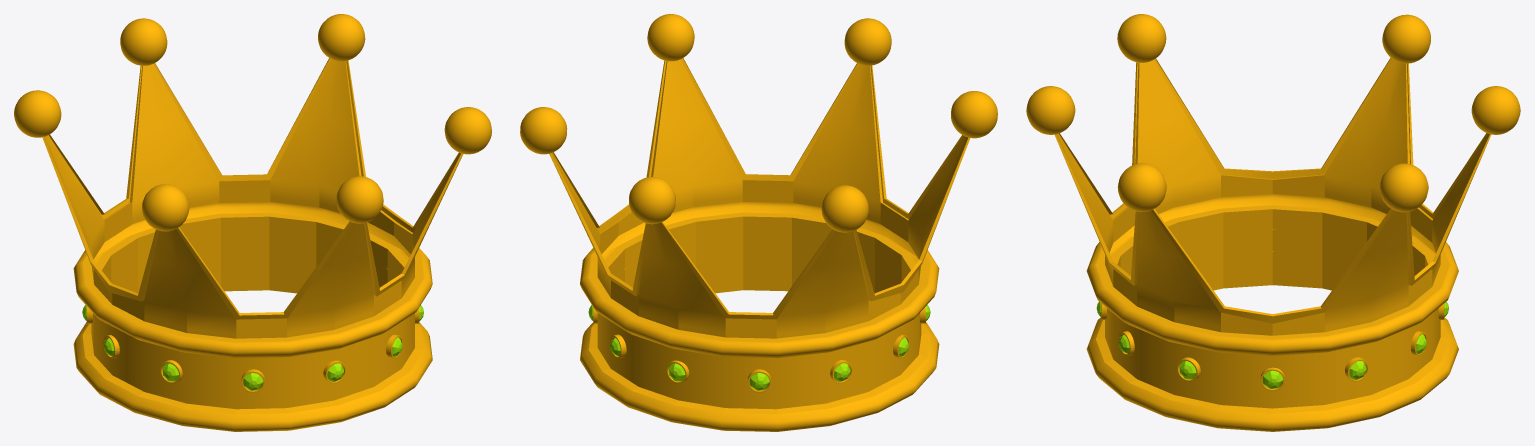
Rendered from Crown.fbx.
The picture shows the model from 3 angles, left to right: view 1: azimuth 30°, elevation 25°; view 2: azimuth 150°, elevation 25°; view 3: azimuth 270°, elevation 25°; orthographic projection. The views are drawn at different scales.
Parts seen in each view (by area): view 1: Crown; view 2: Crown; view 3: Crown.
Boxes of the visible parts, bbox=[...] form: Crown: bbox=[14, 14, 491, 431]; Crown: bbox=[520, 14, 997, 431]; Crown: bbox=[1026, 14, 1520, 431].
Size of the model in its own units: 3.93 by 2.84 by 4.74.
Materials: 1 (1 with a texture image).
